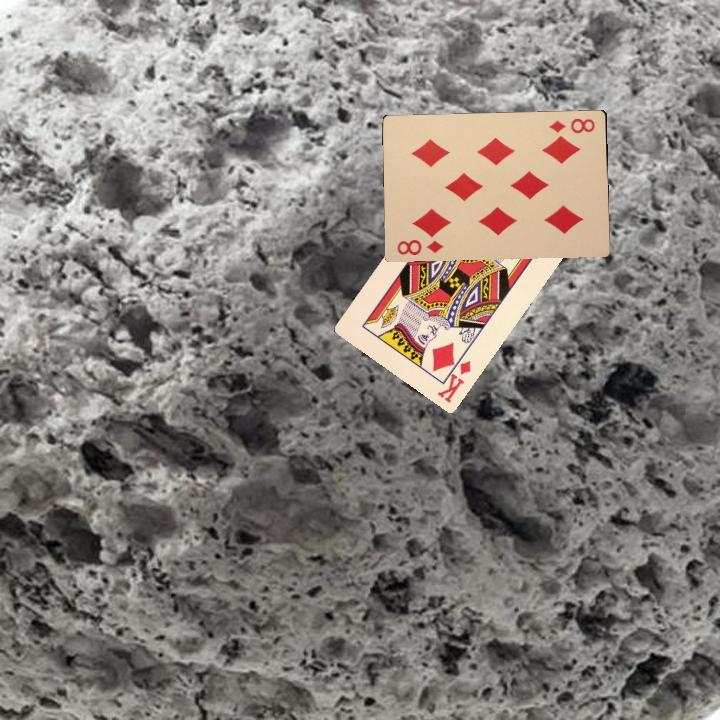8d: (393, 236, 446, 258), (545, 114, 597, 136)
Kd: (433, 348, 474, 406)
